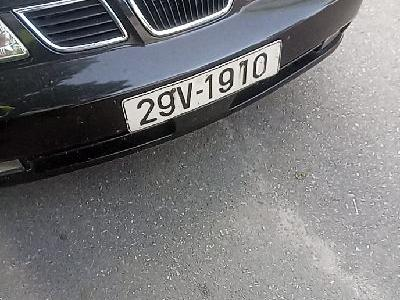number: (120, 40, 281, 133)
